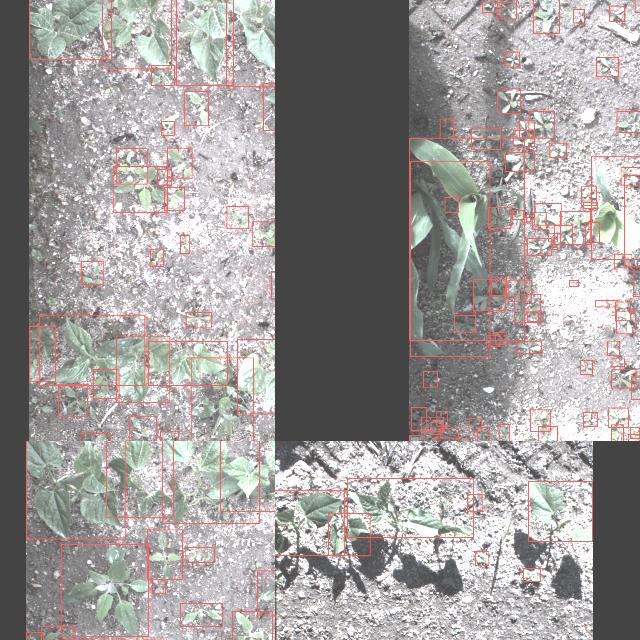crop: (410, 137, 524, 340), (410, 162, 490, 356), (25, 441, 124, 539), (162, 441, 259, 524), (39, 314, 145, 386), (347, 478, 473, 538), (106, 441, 173, 517), (591, 156, 640, 259), (29, 0, 111, 60), (176, 0, 233, 85), (102, 0, 171, 69), (275, 490, 344, 555), (226, 0, 275, 86), (220, 441, 275, 512), (528, 481, 592, 541), (116, 336, 170, 402), (148, 341, 228, 385), (236, 338, 275, 413), (328, 512, 370, 556), (29, 326, 55, 382), (534, 203, 562, 225)
weed: (60, 544, 148, 636), (190, 358, 253, 441), (112, 166, 168, 212), (146, 530, 182, 580), (232, 610, 272, 640), (117, 148, 147, 184), (58, 384, 88, 416), (560, 212, 590, 244), (473, 280, 505, 310), (180, 604, 222, 626), (533, 0, 559, 33), (184, 92, 208, 126), (257, 570, 275, 615), (514, 294, 540, 322), (168, 148, 192, 178), (94, 369, 118, 398), (528, 112, 554, 138), (129, 416, 156, 441), (471, 128, 501, 150), (504, 152, 534, 172), (252, 221, 275, 246), (498, 88, 520, 114), (41, 625, 75, 640), (81, 262, 103, 284), (227, 206, 249, 228), (508, 280, 530, 302), (617, 111, 640, 132), (164, 187, 184, 211), (616, 311, 636, 334), (152, 65, 174, 85), (488, 208, 510, 228), (530, 410, 550, 432), (527, 238, 551, 256), (612, 370, 636, 388), (186, 312, 212, 328), (608, 408, 628, 428), (596, 58, 618, 76), (186, 548, 214, 562), (496, 0, 516, 19), (621, 167, 640, 186), (512, 130, 534, 146), (454, 316, 476, 332), (410, 408, 426, 430), (516, 341, 542, 354), (554, 226, 572, 244), (584, 222, 600, 242), (421, 417, 443, 431), (538, 426, 557, 441), (80, 432, 110, 441), (439, 119, 453, 138), (582, 187, 596, 206), (609, 6, 625, 22), (520, 120, 534, 138), (532, 212, 546, 230), (614, 254, 632, 268), (492, 278, 506, 296), (616, 302, 630, 320), (468, 494, 482, 512), (439, 428, 458, 441), (481, 0, 500, 12), (157, 169, 171, 185), (550, 143, 566, 157), (444, 197, 458, 213), (423, 371, 437, 387), (152, 578, 166, 594), (524, 568, 540, 582), (631, 376, 640, 399), (611, 424, 623, 441), (632, 271, 640, 296), (505, 52, 519, 66), (468, 418, 482, 432), (583, 412, 597, 426), (475, 551, 489, 565), (150, 250, 162, 266), (607, 340, 619, 356), (498, 424, 509, 441), (476, 427, 489, 441), (180, 236, 190, 254), (160, 431, 178, 441), (162, 122, 174, 136), (486, 334, 500, 346), (580, 361, 592, 375), (596, 300, 616, 308), (437, 412, 448, 426), (494, 332, 506, 344), (574, 9, 584, 23), (25, 632, 42, 640), (431, 423, 442, 435), (526, 312, 538, 322), (548, 232, 558, 242), (512, 210, 522, 220), (630, 428, 640, 438), (612, 359, 624, 367), (408, 435, 423, 441), (583, 202, 597, 208), (629, 434, 640, 441), (570, 280, 578, 286), (526, 214, 530, 222), (552, 248, 558, 250)
